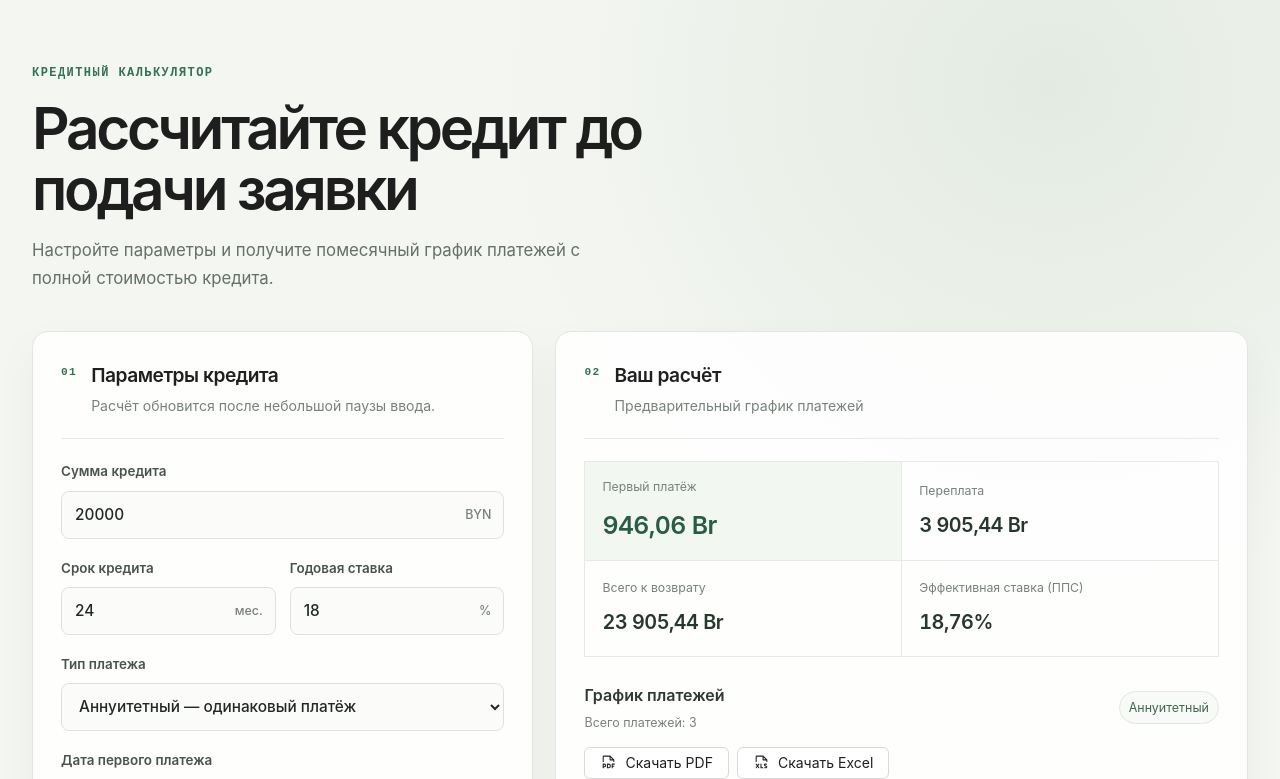
Test: CalculatorPage › shows a validation error when the rate is out of range
Replace the text in the number field labelled "Годовая ставка %" with "70". click: coordinates (397, 611)
box: [290,587,504,635]
Wait 100 ms
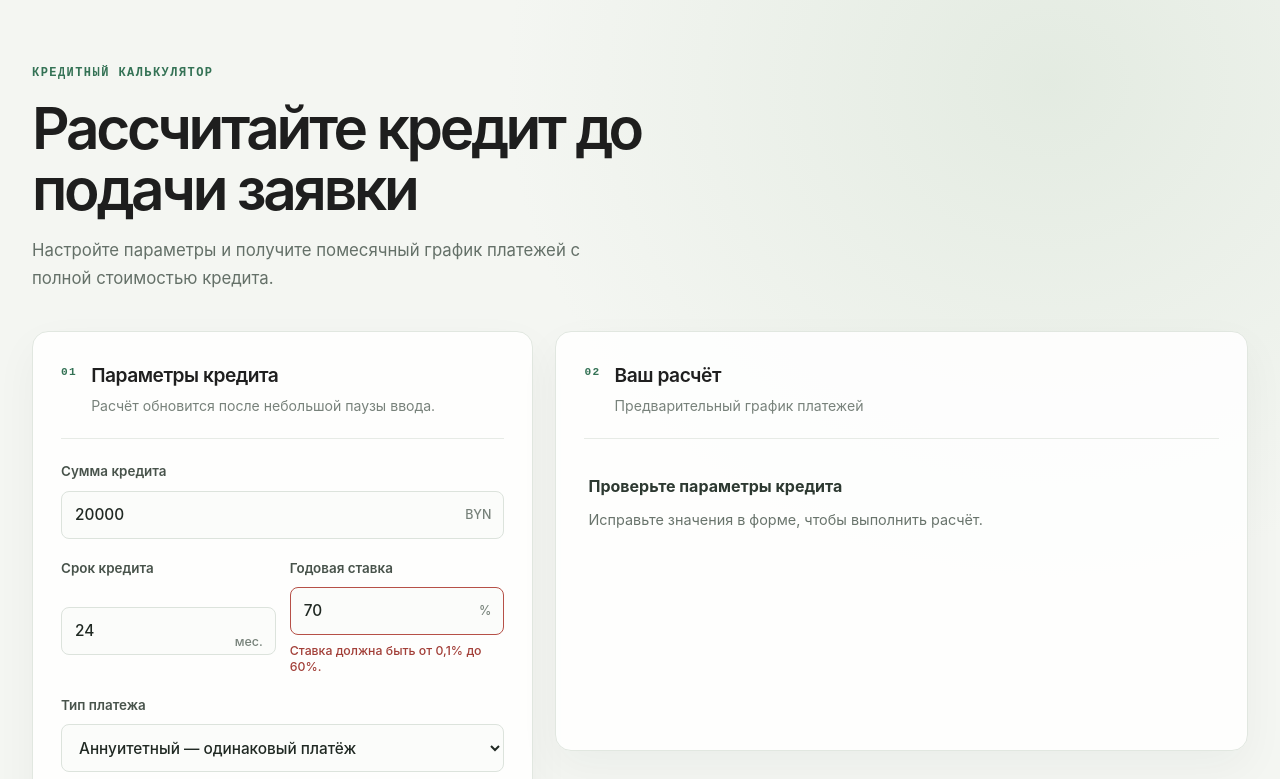
Now the text "Ставка должна быть от 0,1% до 60%." is shown, box [290,643,504,676]
